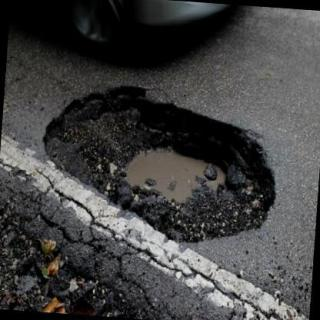pothole: (43, 87, 276, 244)
